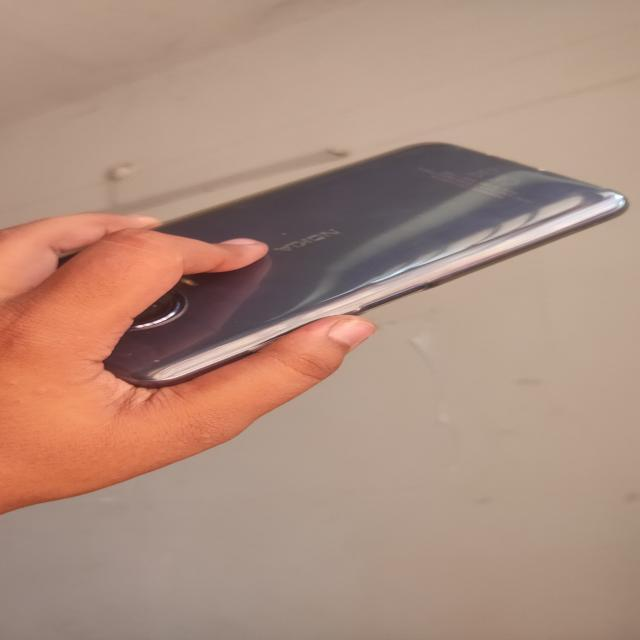Phone: (52, 138, 631, 387)
